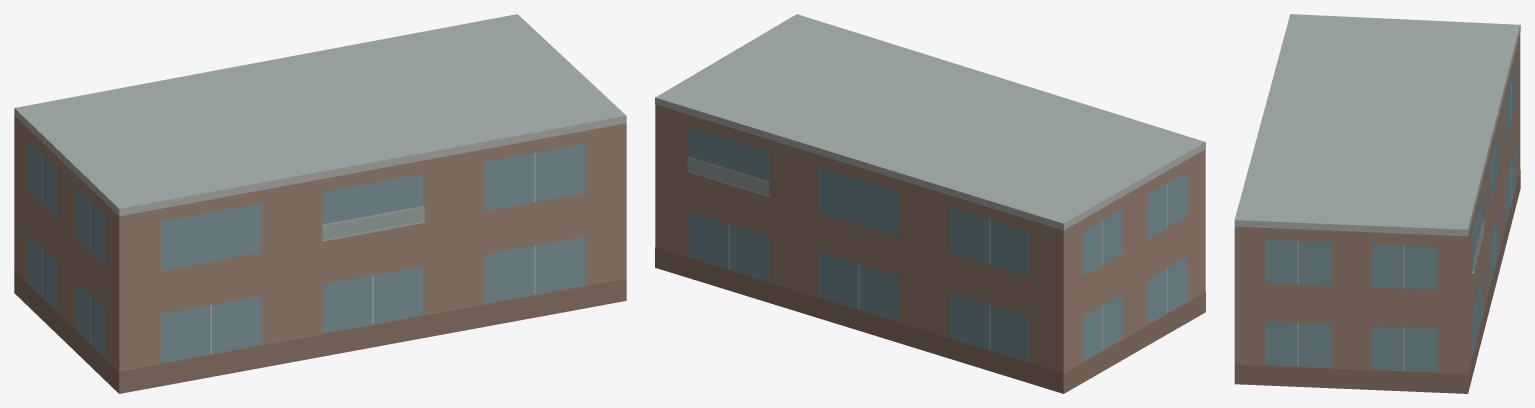
The model's file is survey-upis-32566575.glb.
3 renders of one model, left to right at view 1: azimuth 30°, elevation 25°; view 2: azimuth 150°, elevation 25°; view 3: azimuth 270°, elevation 25°, orthographic. The views are drawn at different scales.
Visible parts, largest first — view 1: survey-upis-32566575.tmp; view 2: survey-upis-32566575.tmp; view 3: survey-upis-32566575.tmp.
Boxes of the visible parts, x1,y1,x2,y2 form: survey-upis-32566575.tmp: (14, 14, 626, 393); survey-upis-32566575.tmp: (655, 14, 1205, 393); survey-upis-32566575.tmp: (1234, 14, 1520, 393).
Size of the model in its own units: 17.22 by 6.1 by 9.64.
